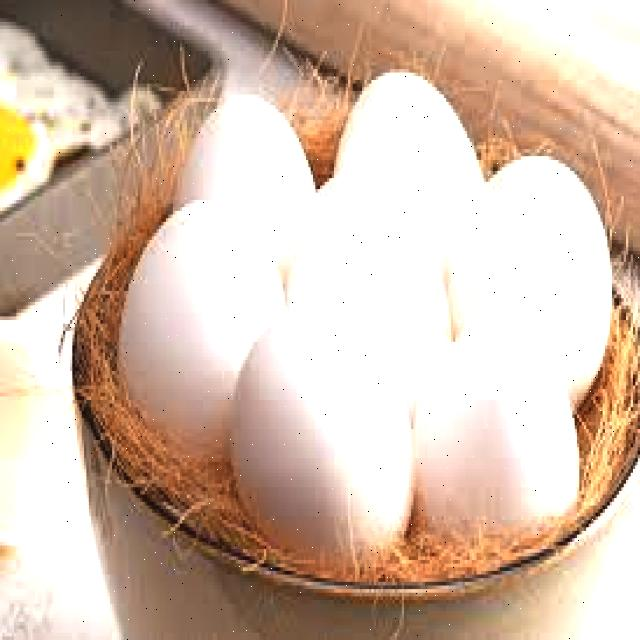White Egg: (404, 319, 591, 565), (236, 304, 405, 554), (123, 207, 280, 442), (467, 148, 603, 398), (280, 178, 447, 364), (171, 90, 317, 269), (344, 43, 464, 248)
